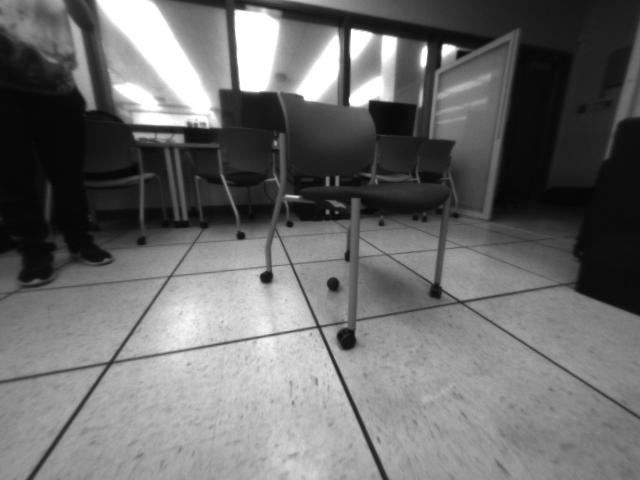dogtoy: (317, 269, 349, 299)
